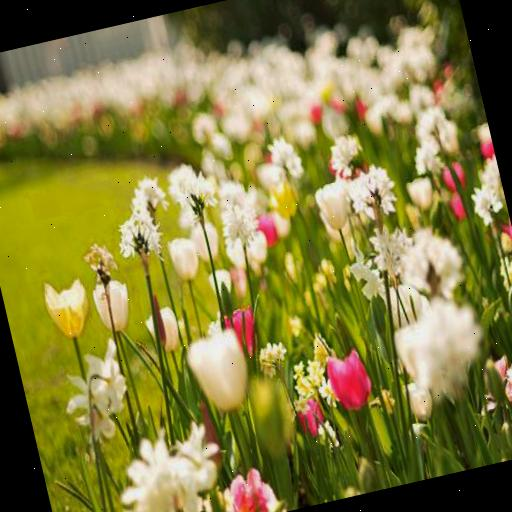tulip: (324, 344, 378, 414), (40, 271, 94, 339), (91, 277, 136, 334), (312, 177, 356, 234), (164, 232, 202, 282), (145, 306, 182, 354)
